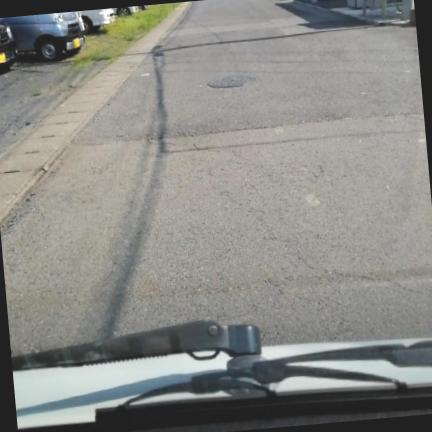Road: (1, 0, 431, 353)
